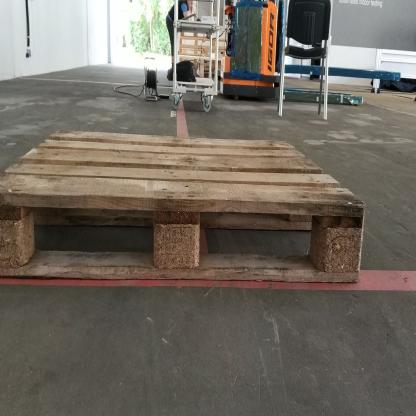BoxFace: (0, 123, 373, 290)
